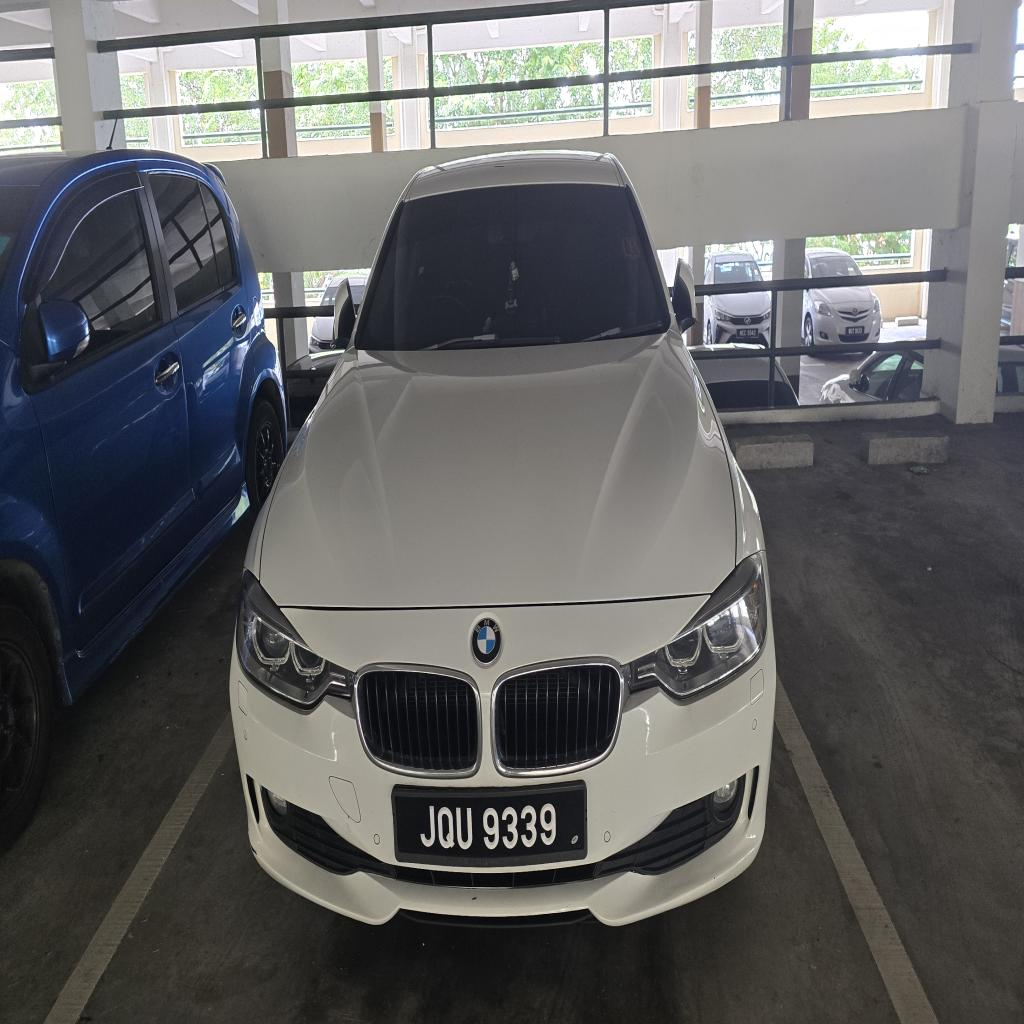car: (231, 153, 775, 923)
car plate: (393, 783, 586, 866)
